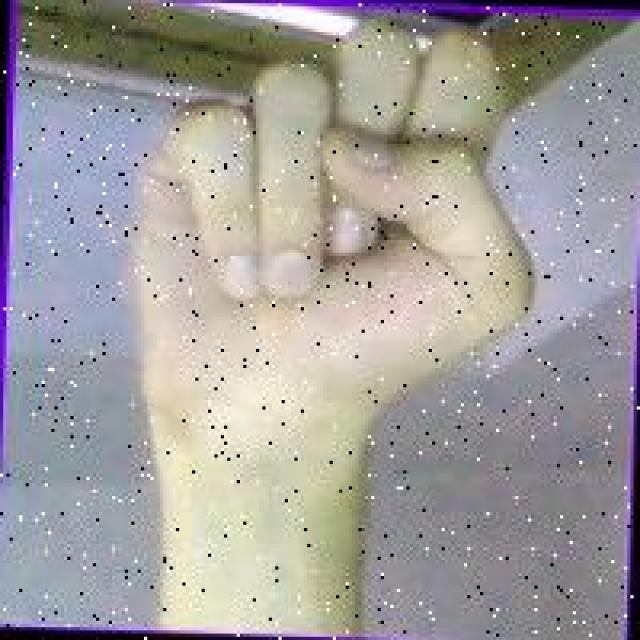S: (122, 6, 547, 445)
